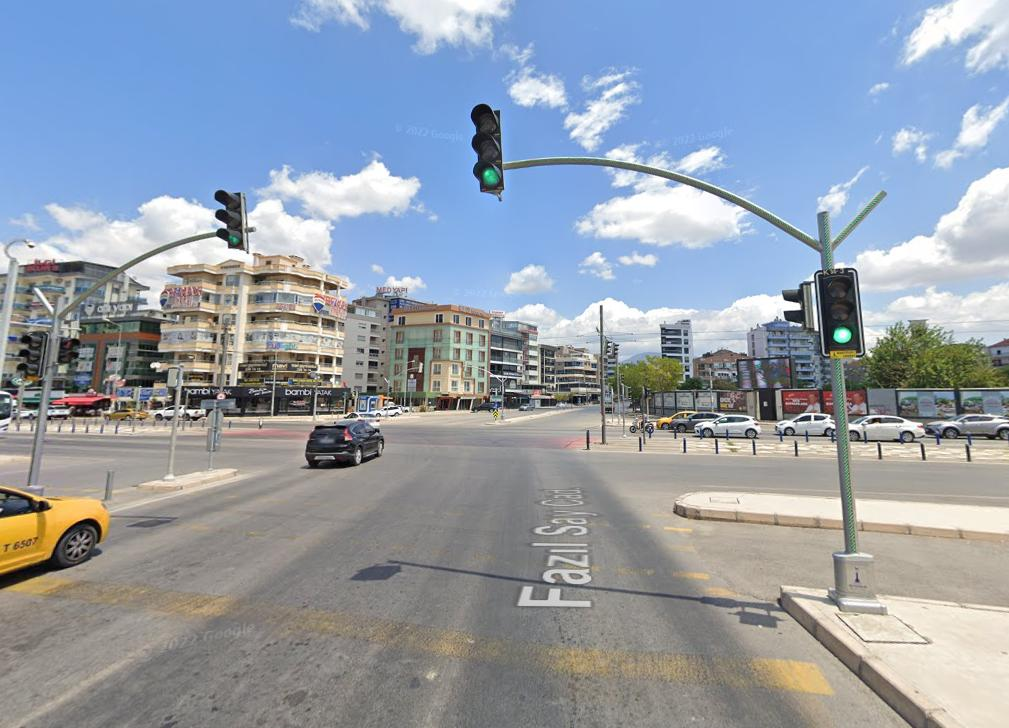greenlight: (818, 269, 863, 362), (473, 102, 503, 197), (217, 185, 243, 253)
